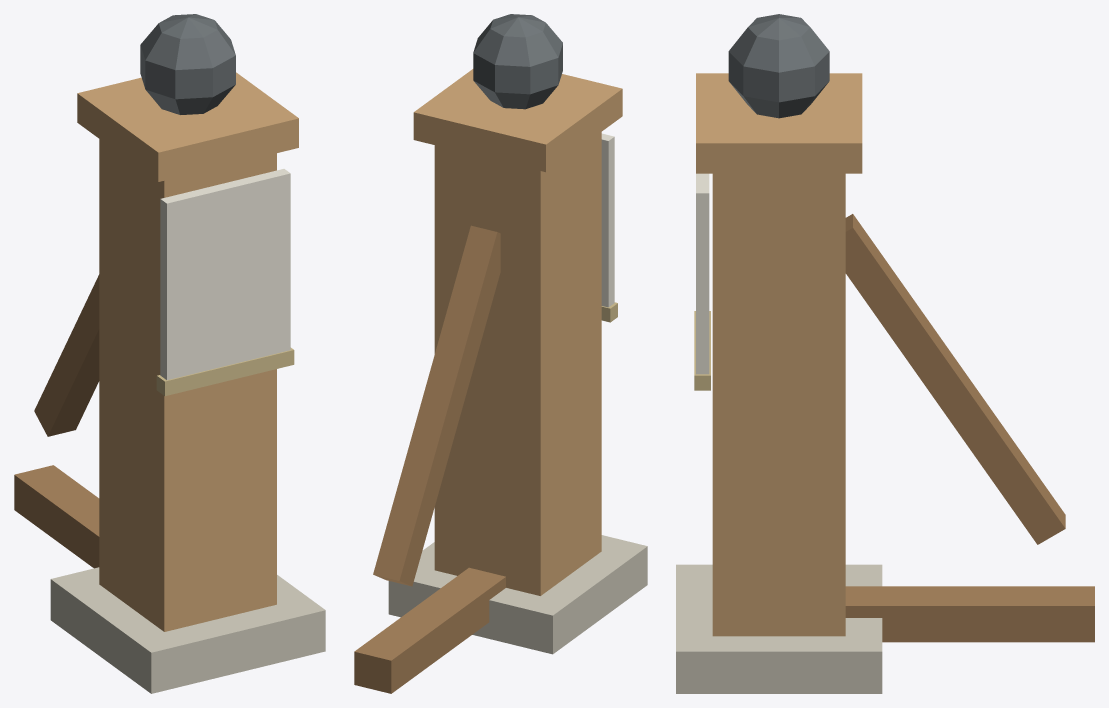
File: tilt-barrier-end-post.glb
3 renders of one model, left to right at view 1: azimuth 30°, elevation 25°; view 2: azimuth 150°, elevation 25°; view 3: azimuth 270°, elevation 25°, orthographic. The views are drawn at different scales.
Parts seen in each view (by area): view 1: tilt-barrier-end-post; view 2: tilt-barrier-end-post; view 3: tilt-barrier-end-post.
Part boxes in pixels (x1,y1,x2,y2): tilt-barrier-end-post: [14, 14, 325, 693]; tilt-barrier-end-post: [354, 14, 647, 693]; tilt-barrier-end-post: [676, 14, 1094, 693].
Size of the model in its own units: 0.62 by 2.1 by 1.26.
